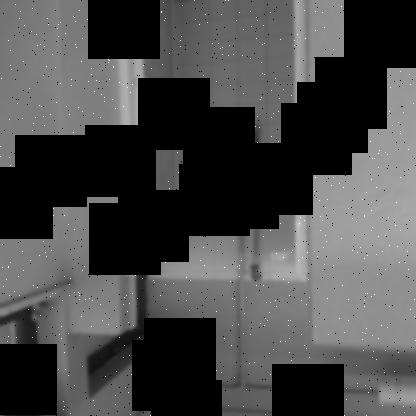Porte: (117, 1, 309, 280)
